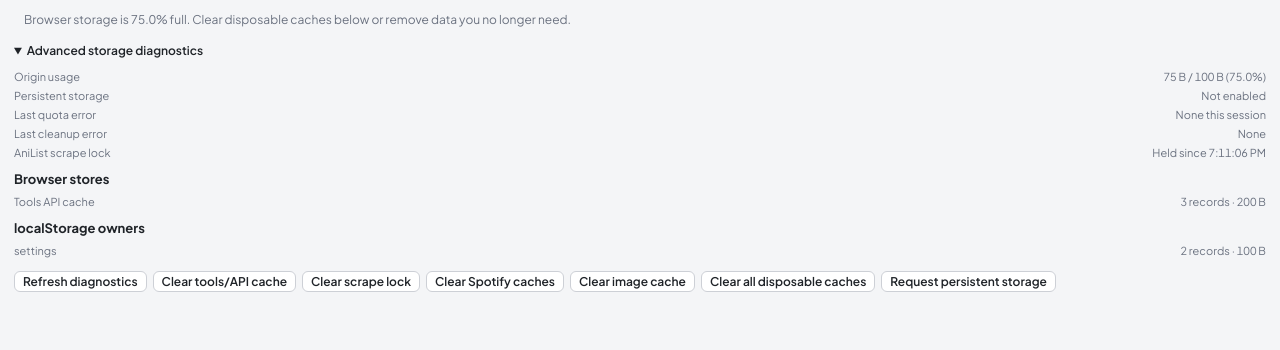
Scenario: StorageDiagnosticsSection › shows and clears a held AniList scrape lock
Click the button "Clear scrape lock": [361, 282] box [302, 271, 420, 292]
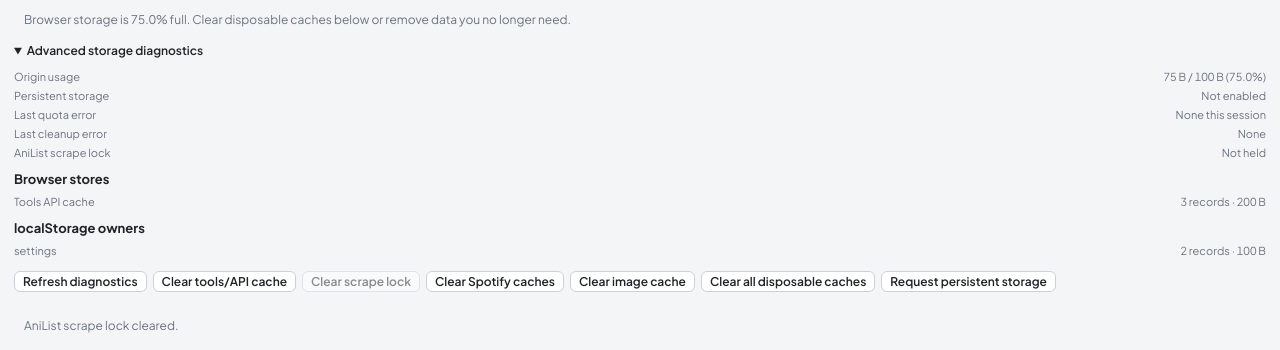
Now the text "Not held" is shown, box [1222, 146, 1266, 159]
Now the button "Clear scrape lock" is disabled, box [302, 271, 420, 292]
Now the text "AniList scrape lock cleared." is shown, box [24, 318, 178, 333]
